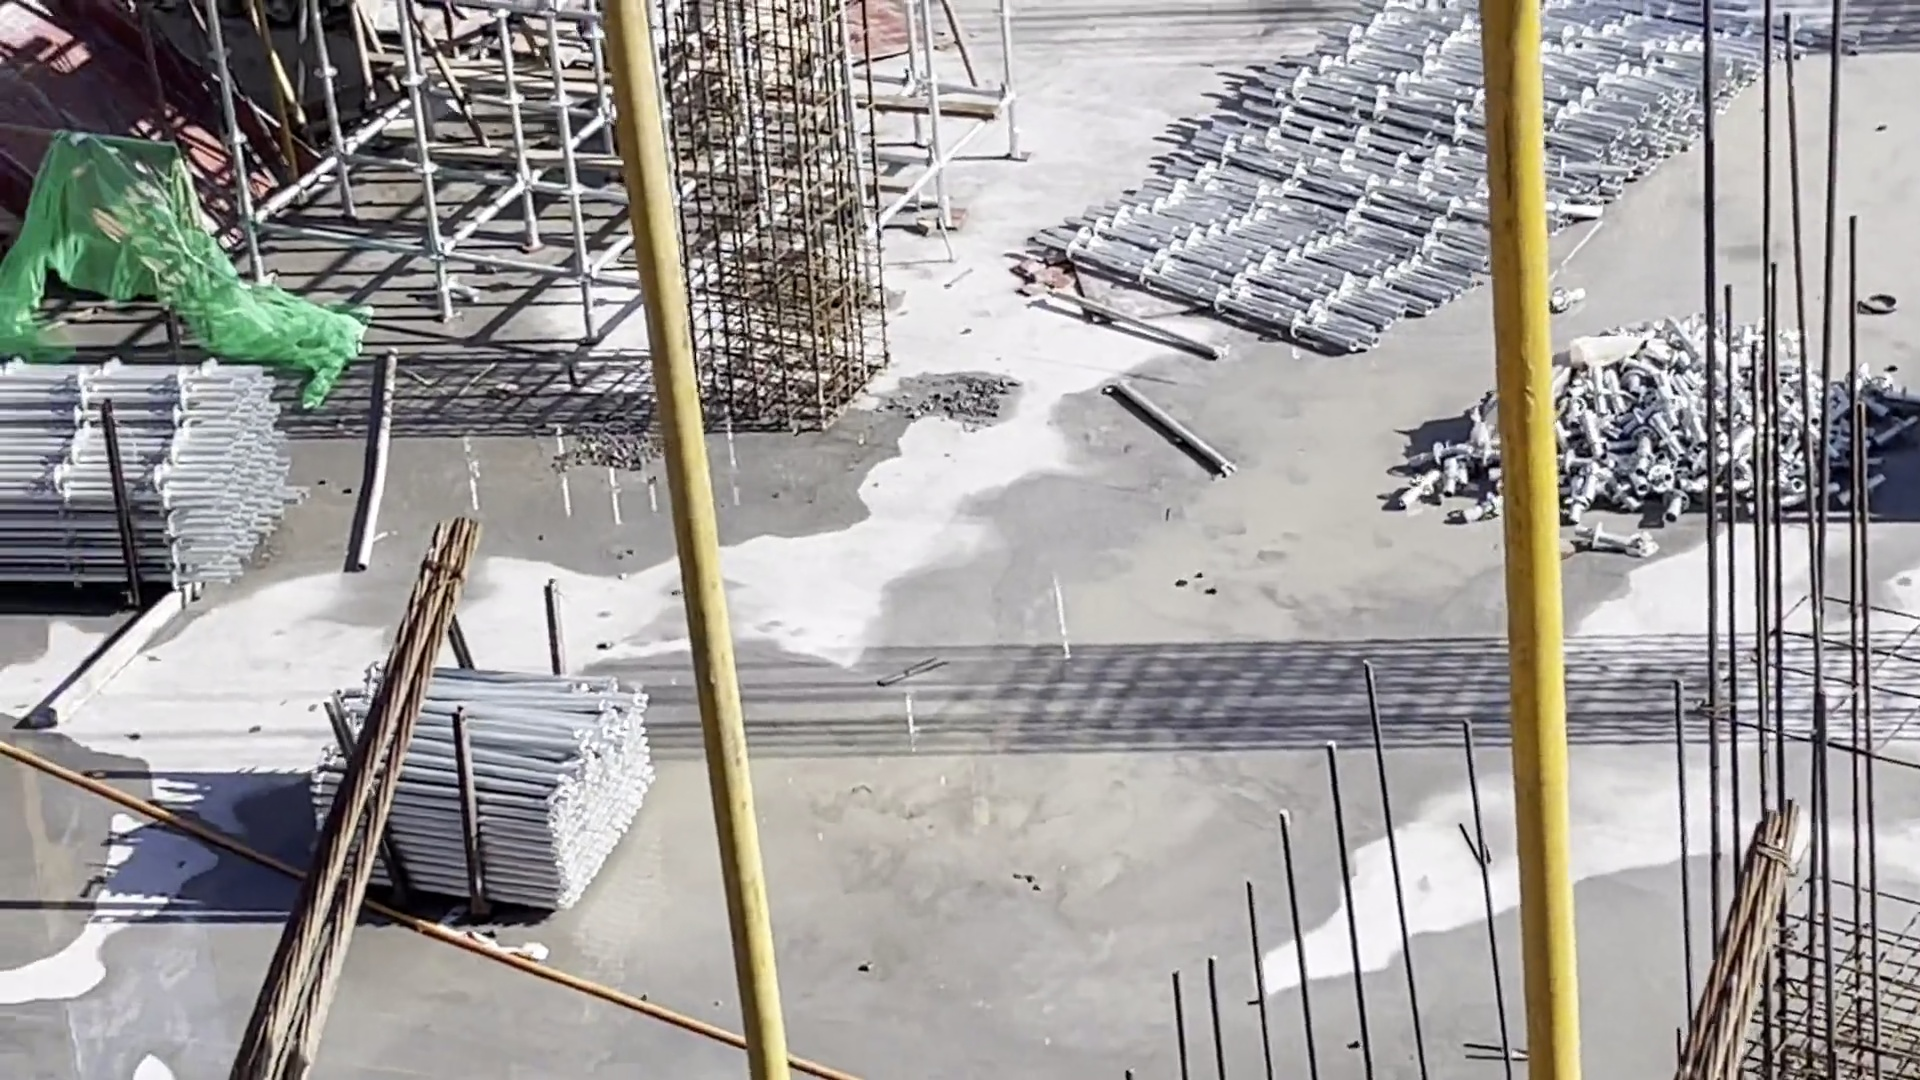scaffold: (1017, 5, 1826, 360), (320, 655, 658, 911), (3, 348, 302, 607)
